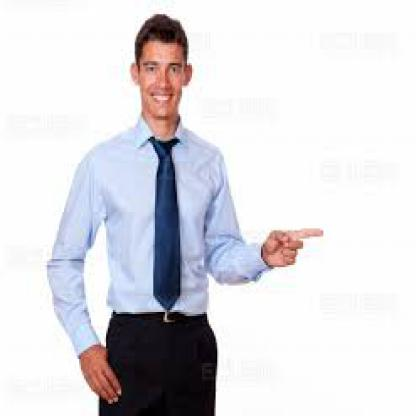Left: (255, 210, 328, 280)
